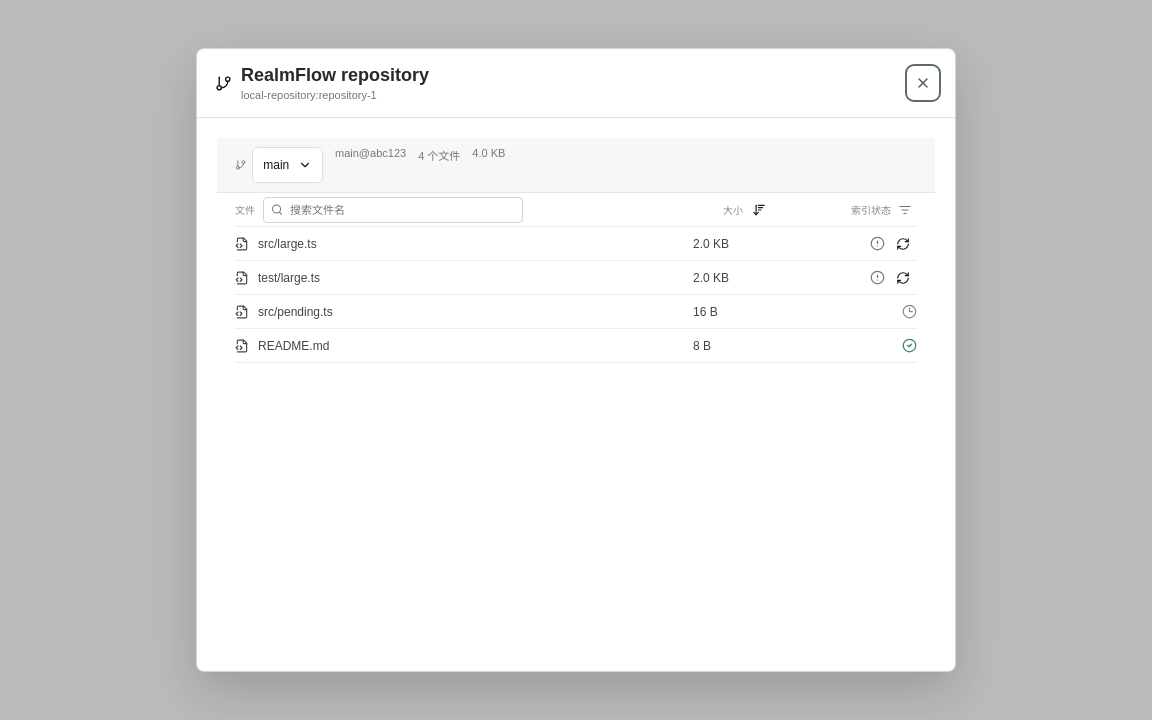
RepositorySnapshotDialog › publishes a safe toast when retrying a failed file fails
Click the button named "重新索引此文件" in the row of "src/large.ts". click: (903,244)
box: [889,230,917,258]
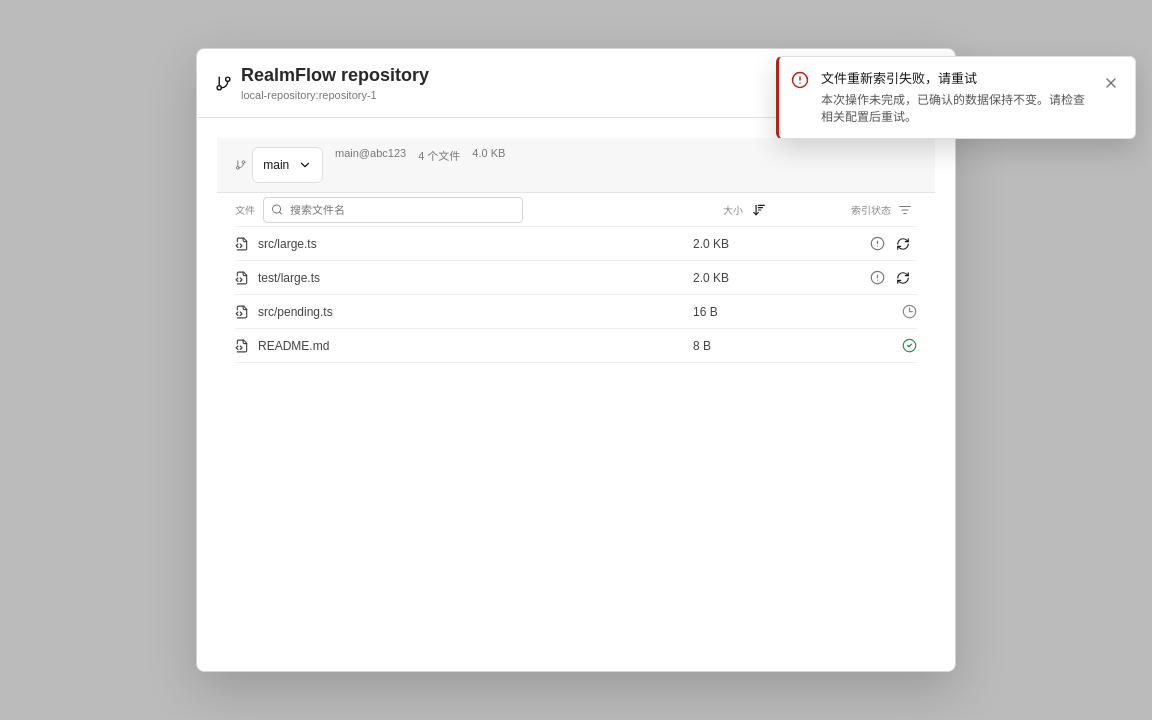
expect the text "文件重新索引失败，请重试" is shown: met, box [821,71,977,86]
